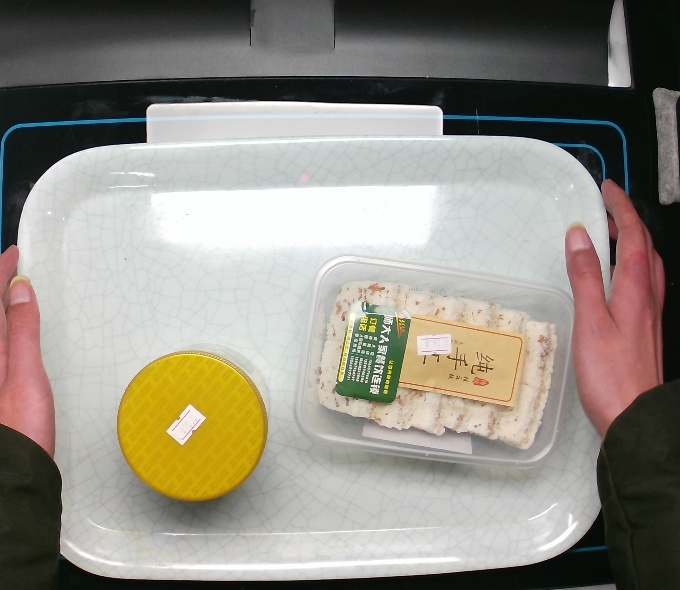wcq-GuiHuaGao: (292, 252, 576, 471)
wcq-MaiYaTang: (114, 339, 270, 504)
